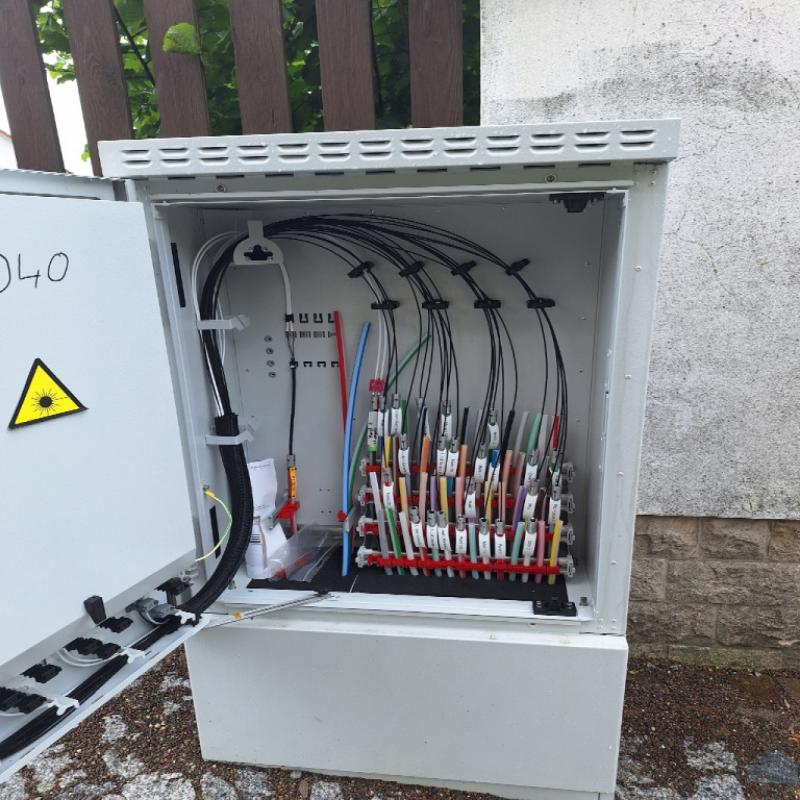NT-Gehause: (0, 124, 670, 800)
